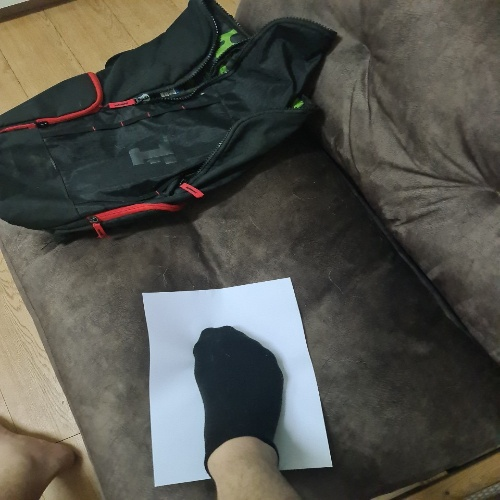Top_Foot: (119, 263, 362, 498)
